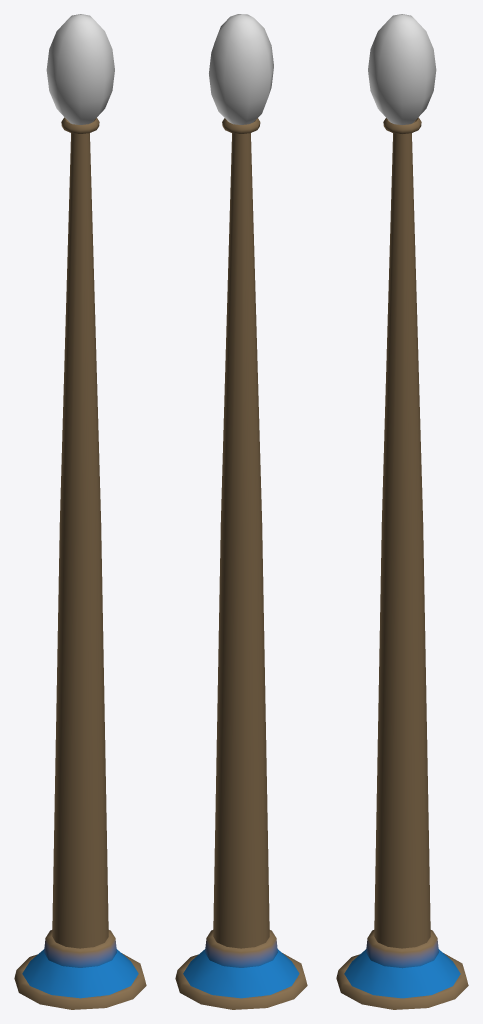
File: Antenna_B.FBX
3 renders of one model, left to right at view 1: azimuth 90°, elevation 25°; view 2: azimuth 150°, elevation 25°; view 3: azimuth 270°, elevation 25°, orthographic.
Parts seen in each view (by area): view 1: antenna_B; view 2: antenna_B; view 3: antenna_B.
Boxes of the visible parts, box(x1,y1,x2,y2) form: antenna_B: box(14, 14, 146, 1009); antenna_B: box(175, 14, 307, 1009); antenna_B: box(336, 14, 468, 1009).
Size of the model in its own units: 1.29 by 10.36 by 1.29.
